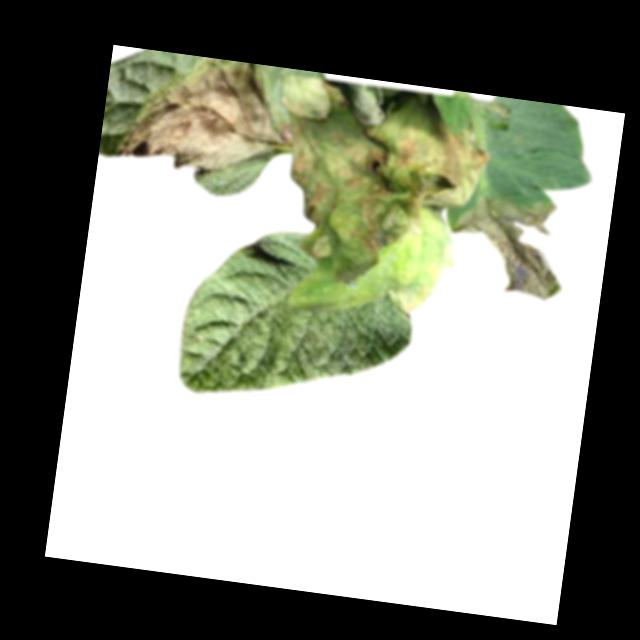Late_blight: (254, 71, 511, 304), (113, 47, 283, 185), (446, 190, 574, 306)
